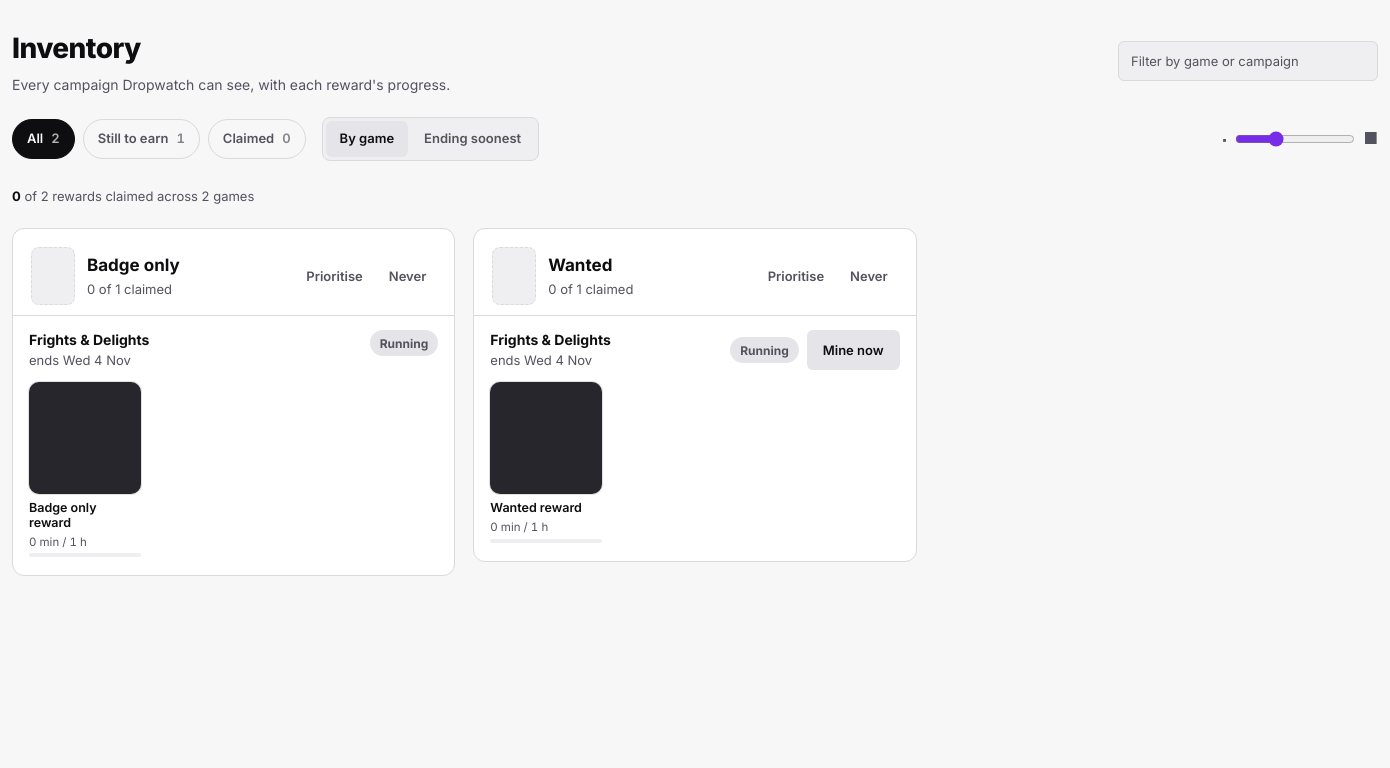
Scenario: Still to earn leaves out campaigns the miner won't mine
Check: the heading "Badge only" is shown, box [87,255,180,275]
Click the button "Still to earn 1": (141,139) [83,119,200,159]
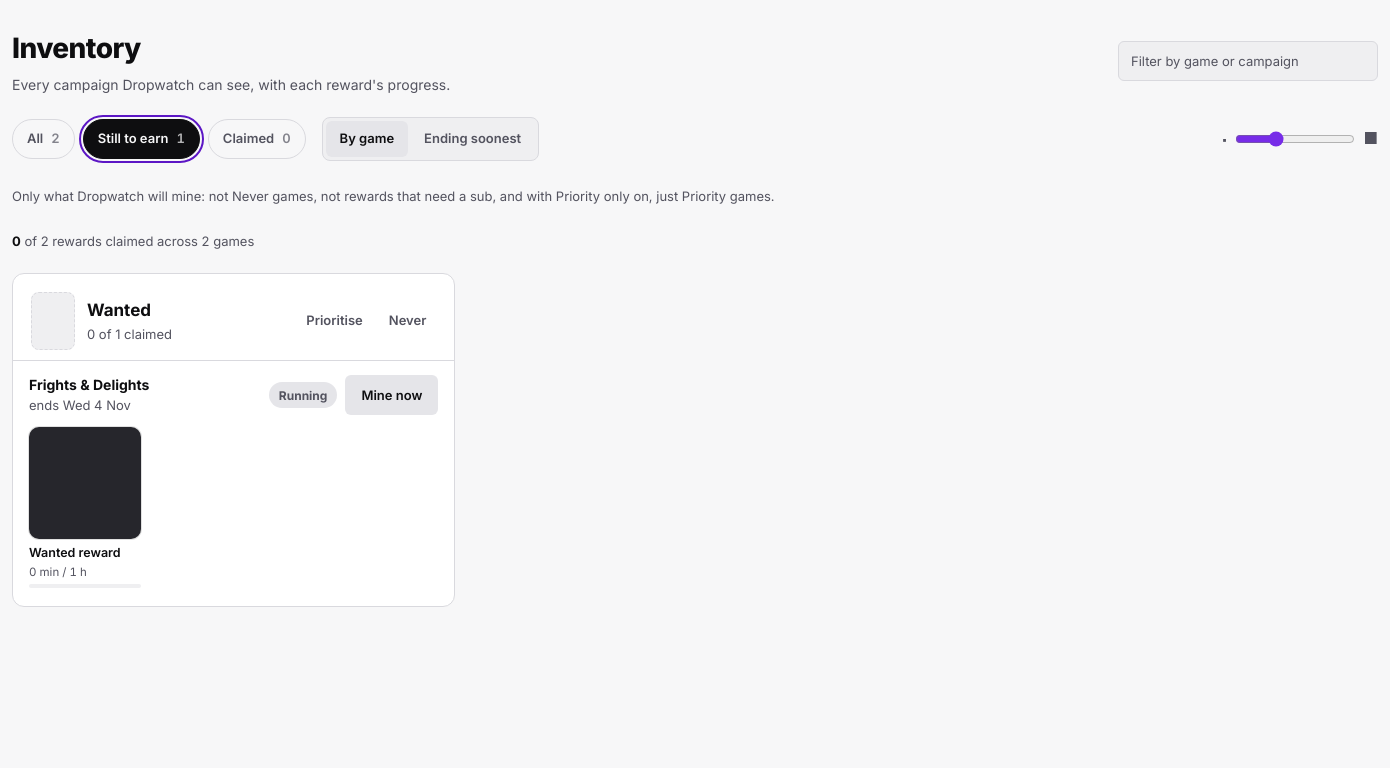
Check: the heading "Wanted" is shown, box [87,300,151,320]
Check: the heading "Badge only" is gone
